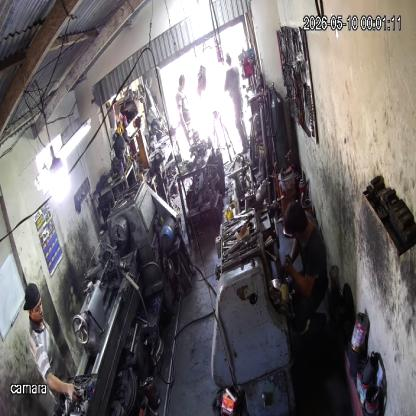sin_lentes: (32, 300, 42, 314)
